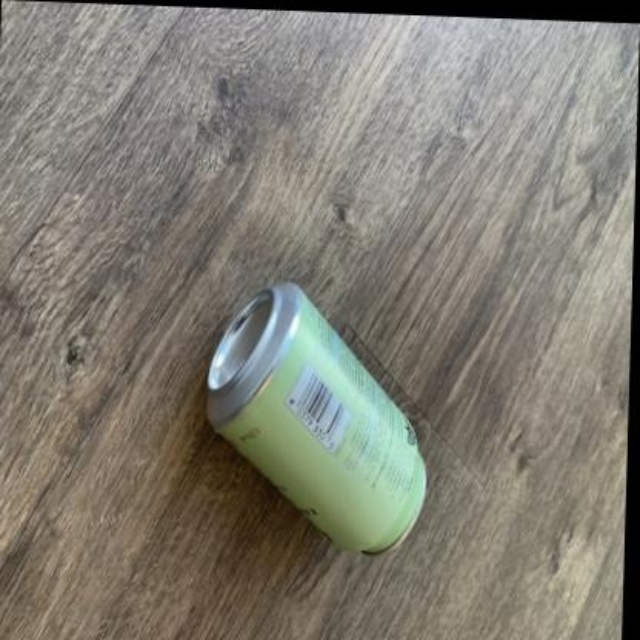trash: (208, 283, 425, 551)
